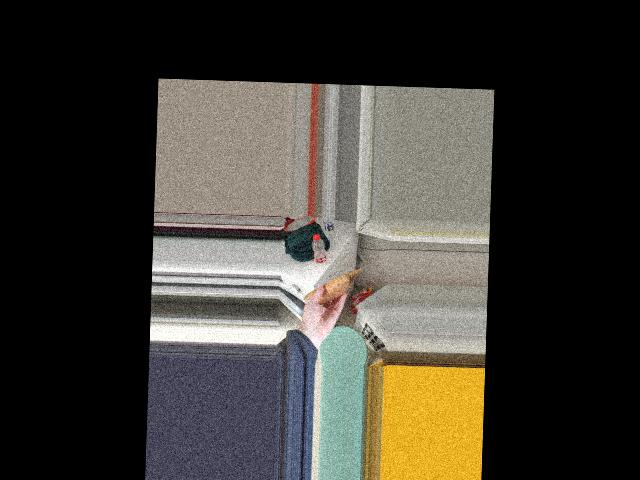sweet_potato: (310, 276, 346, 303)
